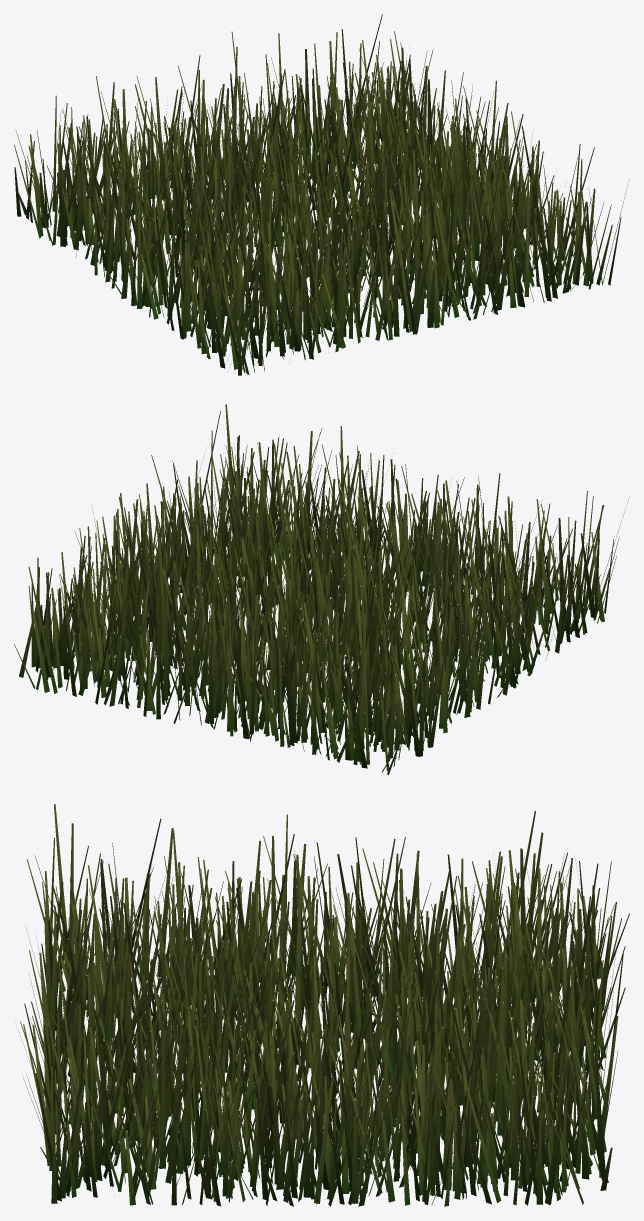
The model's file is Turf_Wild.glb.
3 views of the same model, one above another, from view 1: azimuth 30°, elevation 25°; view 2: azimuth 150°, elevation 25°; view 3: azimuth 270°, elevation 25° (orthographic). The views are drawn at different scales.
Parts seen in each view (by area): view 1: Turf_Wild; view 2: Turf_Wild; view 3: Turf_Wild.
Boxes of the visible parts, <box> form: Turf_Wild: <box>14,14,629,375</box>; Turf_Wild: <box>14,404,628,774</box>; Turf_Wild: <box>19,804,629,1206</box>.
Size of the model in its own units: 1.39 by 0.3956 by 1.35.
